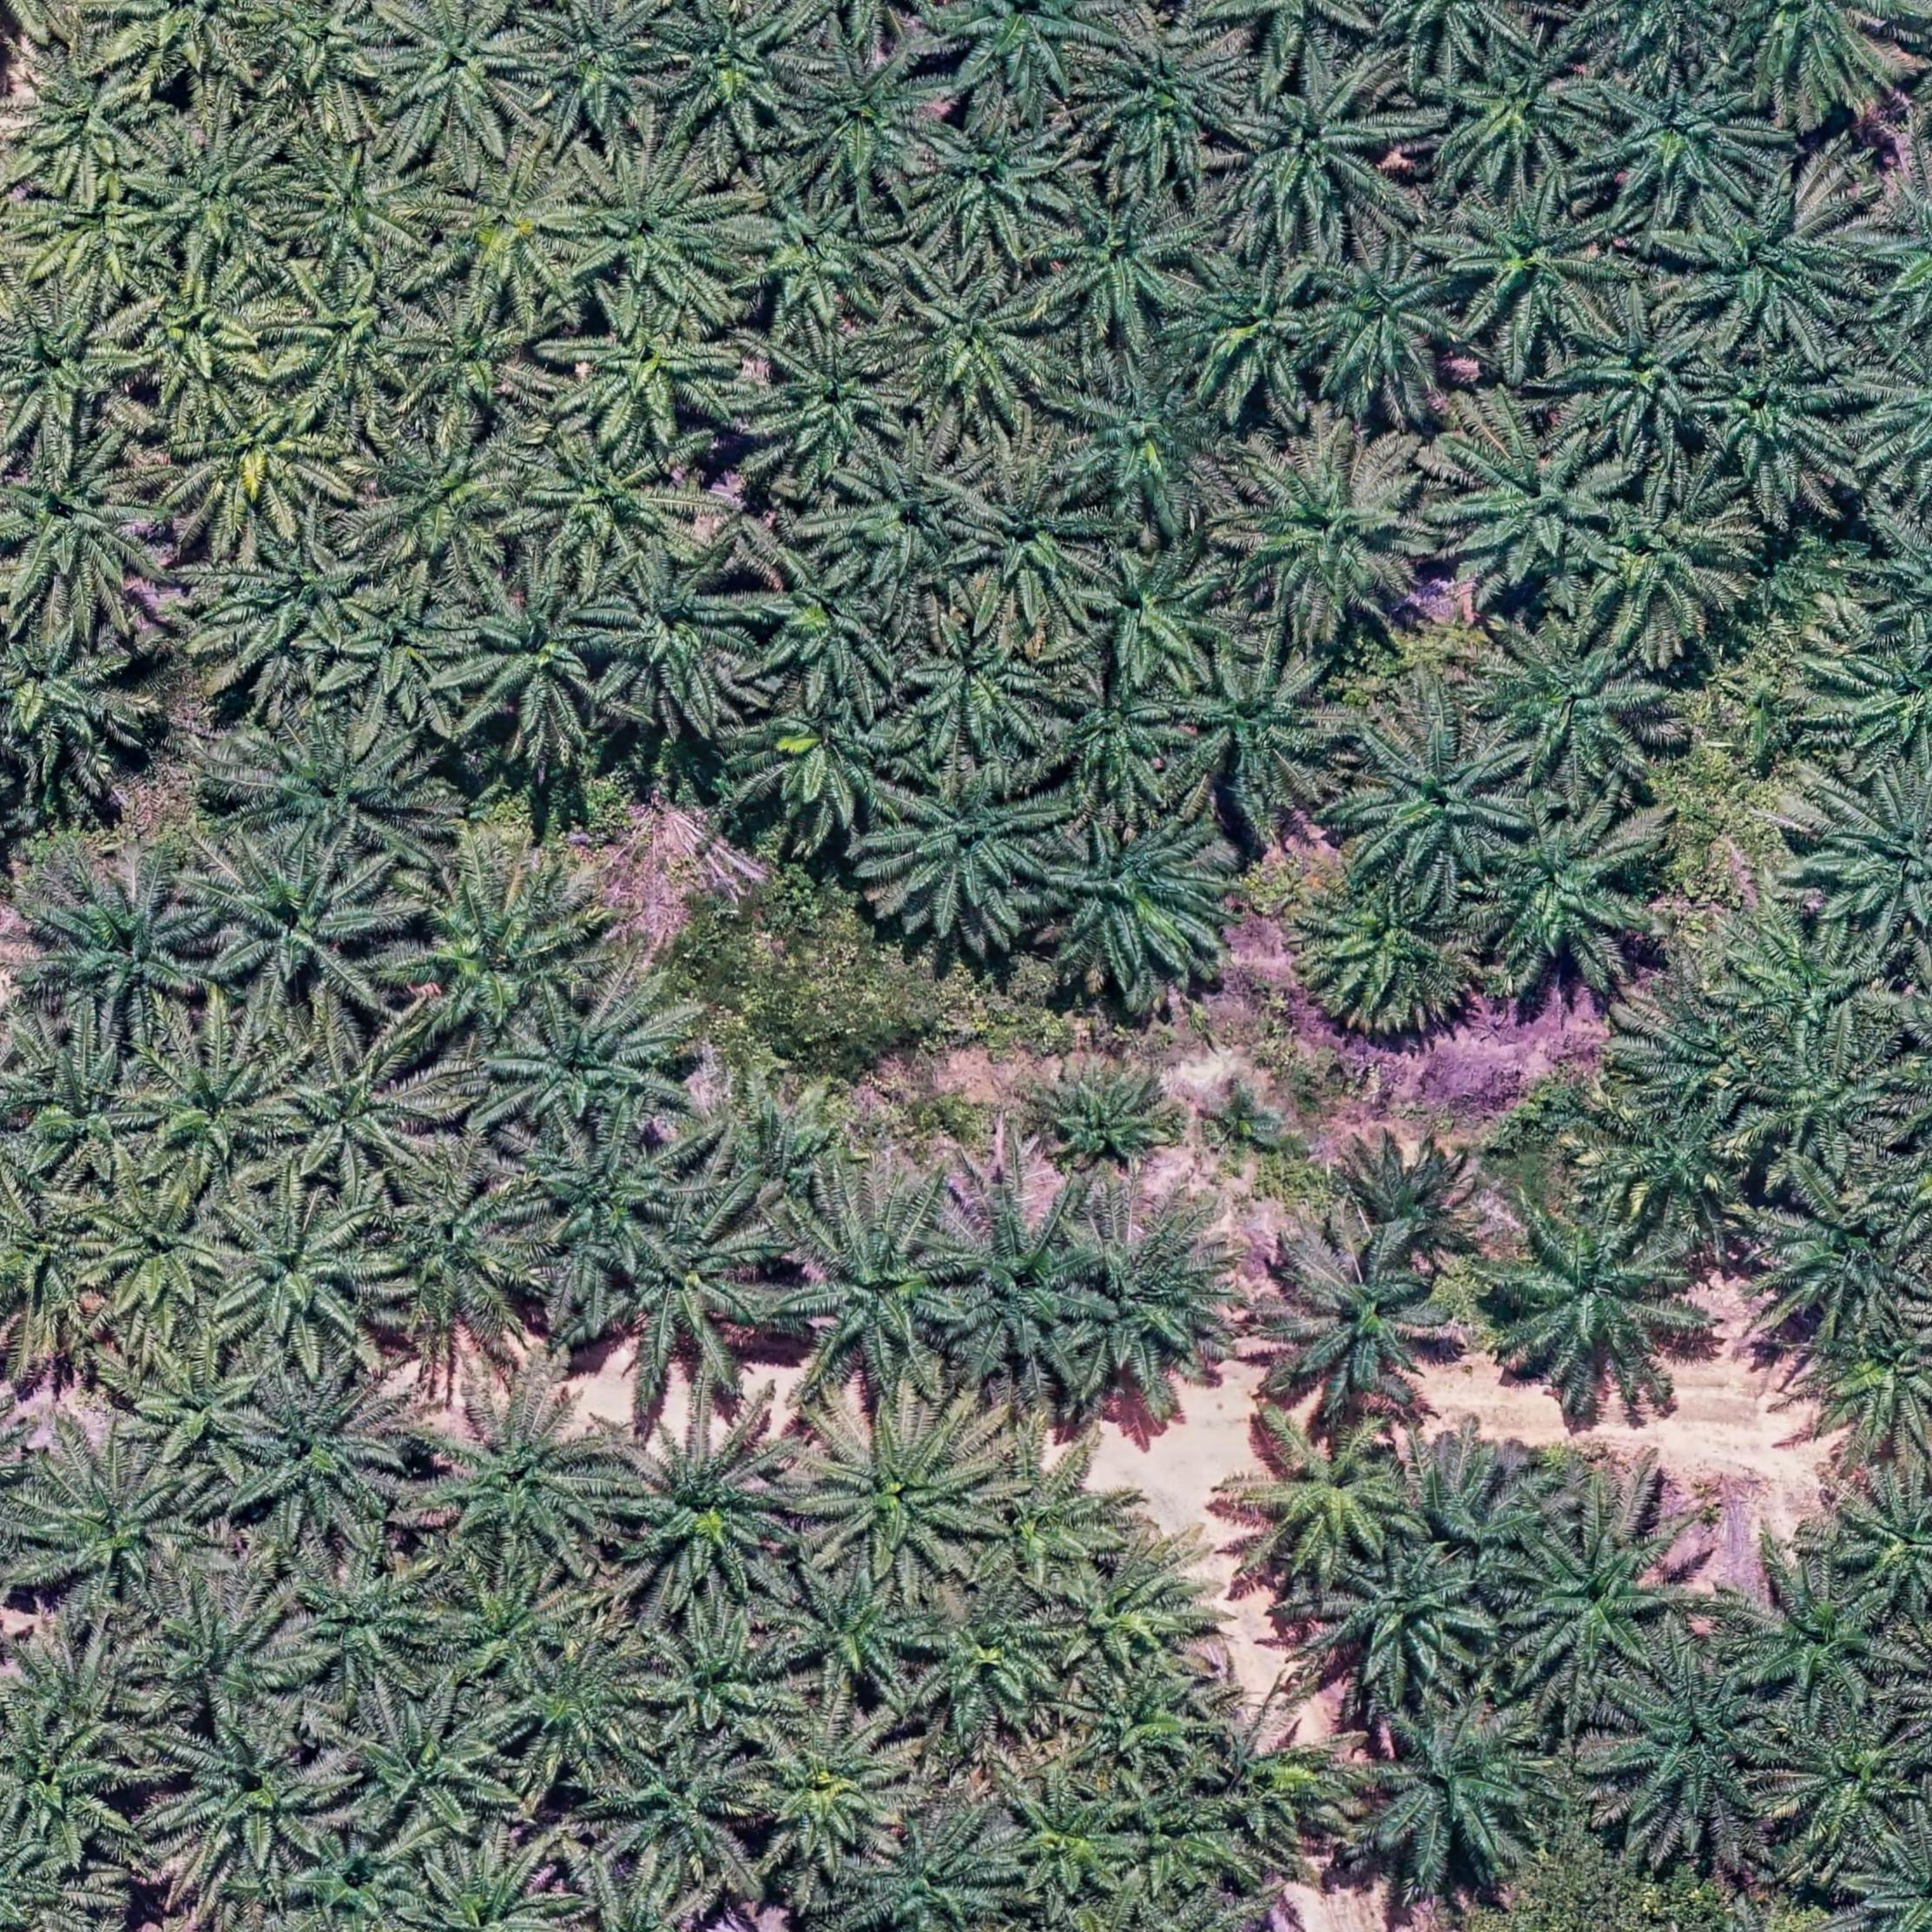palmtree: (1484, 1194, 1697, 1389), (1265, 1221, 1470, 1421), (193, 835, 405, 1026), (609, 1408, 810, 1608), (1350, 1700, 1560, 1891), (1060, 1203, 1260, 1403), (1235, 437, 1440, 632), (402, 860, 609, 1053), (794, 1398, 1005, 1587), (423, 1380, 626, 1571), (777, 1196, 975, 1387), (596, 1191, 782, 1385), (1605, 1649, 1792, 1840), (150, 1706, 349, 1886), (1217, 55, 1410, 239), (1028, 812, 1228, 989), (1681, 168, 1875, 349), (34, 862, 223, 1042), (938, 1194, 1115, 1385), (876, 763, 1069, 938), (1438, 418, 1626, 596), (449, 563, 630, 747), (230, 1368, 414, 1546), (19, 1438, 205, 1615), (1507, 1509, 1693, 1684), (587, 547, 768, 724), (209, 1187, 391, 1362), (1474, 805, 1656, 980), (1238, 1412, 1426, 1582), (564, 147, 750, 317), (1483, 621, 1670, 789), (370, 1168, 548, 1343), (1440, 175, 1624, 345), (1345, 720, 1527, 888), (1295, 869, 1483, 1031), (331, 1693, 520, 1854), (1060, 352, 1238, 522), (743, 1706, 922, 1875), (488, 989, 681, 1145), (885, 258, 1065, 425), (1315, 1545, 1506, 1700), (1168, 648, 1348, 812), (1426, 23, 1606, 186), (159, 386, 345, 543), (271, 1023, 446, 1189), (964, 1435, 1139, 1601), (5, 439, 170, 616), (901, 1580, 1079, 1743), (1591, 58, 1775, 216), (232, 713, 433, 856), (740, 681, 927, 835), (589, 1734, 768, 1895), (1297, 241, 1468, 407), (517, 1123, 694, 1283), (816, 437, 987, 600), (561, 294, 741, 448), (1755, 1182, 1928, 1339), (1730, 1557, 1905, 1713), (786, 41, 954, 202), (1578, 485, 1750, 642), (133, 1576, 310, 1727), (1560, 292, 1725, 453), (747, 334, 918, 488), (280, 1546, 451, 1700), (1086, 21, 1253, 179), (433, 149, 600, 306), (899, 607, 1069, 759), (750, 548, 915, 704), (1037, 182, 1203, 336), (359, 430, 527, 582), (80, 1178, 239, 1338), (120, 258, 285, 410), (2, 610, 149, 780), (524, 437, 695, 582), (738, 186, 909, 331), (267, 264, 428, 418), (1177, 253, 1334, 409), (640, 1610, 809, 1755), (911, 104, 1077, 249), (1044, 1543, 1215, 1683), (136, 1031, 297, 1180), (656, 0, 824, 142), (959, 471, 1116, 621), (1767, 1713, 1927, 1861), (379, 0, 543, 143), (1695, 350, 1861, 492), (140, 122, 299, 269), (1081, 545, 1240, 690), (278, 131, 437, 276), (1596, 1100, 1762, 1238), (1746, 1030, 1913, 1166), (0, 1706, 145, 1861), (777, 1562, 938, 1702), (391, 290, 547, 433), (495, 1642, 658, 1776), (1040, 667, 1192, 810), (1030, 1046, 1185, 1185), (226, 527, 384, 663), (1713, 0, 1911, 106), (527, 4, 681, 140), (851, 1813, 1023, 1932), (338, 579, 481, 720), (0, 288, 133, 441), (23, 1033, 165, 1175), (1739, 920, 1897, 1044), (1822, 773, 1932, 948), (1201, 1713, 1345, 1845), (941, 0, 1125, 103), (437, 1564, 586, 1688), (134, 1343, 276, 1472), (1079, 1661, 1228, 1783), (21, 50, 161, 179), (998, 1775, 1139, 1900), (1343, 1139, 1483, 1265), (1810, 1315, 1932, 1458), (0, 1182, 103, 1338), (288, 1826, 437, 1932), (1638, 1000, 1773, 1116), (405, 1847, 586, 1932), (28, 175, 157, 294), (253, 0, 402, 103), (1838, 1474, 1932, 1624), (1847, 633, 1932, 764)
